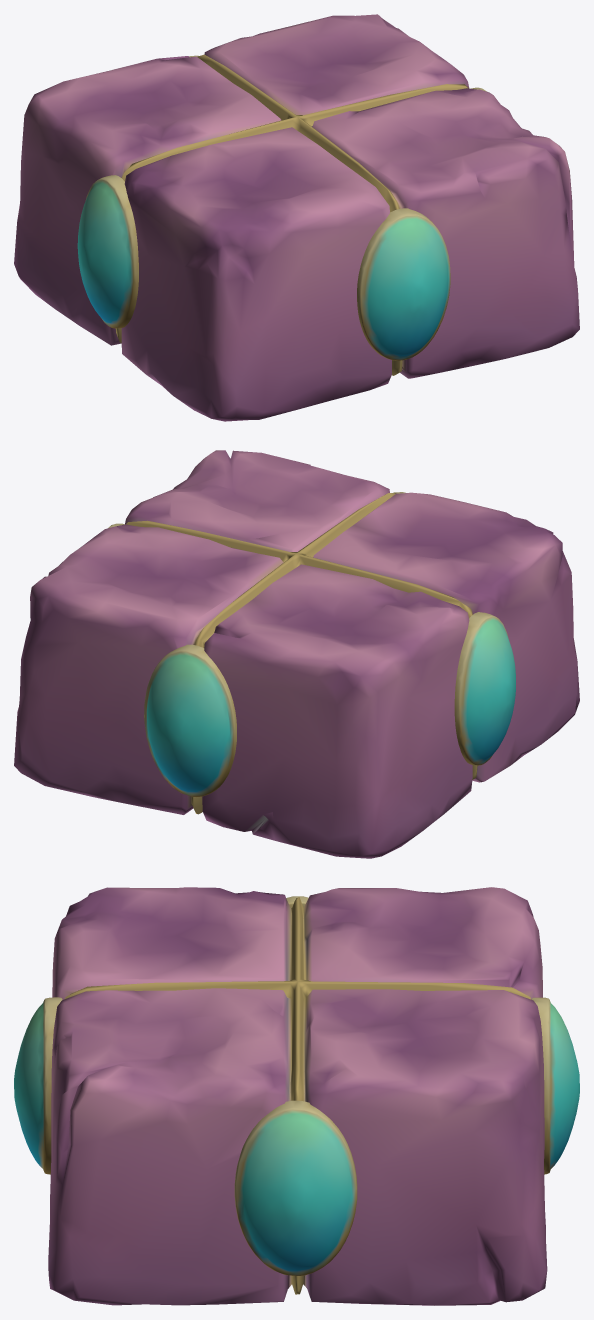
File: SM_pressTile_pink.fbx
3 renders of one model, top to bottom at view 1: azimuth 30°, elevation 25°; view 2: azimuth 150°, elevation 25°; view 3: azimuth 270°, elevation 25°, orthographic. The views are drawn at different scales.
Visible parts, largest first — view 1: pressureTile_pink; view 2: pressureTile_pink; view 3: pressureTile_pink.
Boxes of the visible parts, left/top/right/bottom form: pressureTile_pink: left=14, top=14, right=579, bottom=421; pressureTile_pink: left=14, top=450, right=579, bottom=858; pressureTile_pink: left=14, top=887, right=579, bottom=1305.
Bounding box in the file's own units: 109 × 47.84 × 109.
